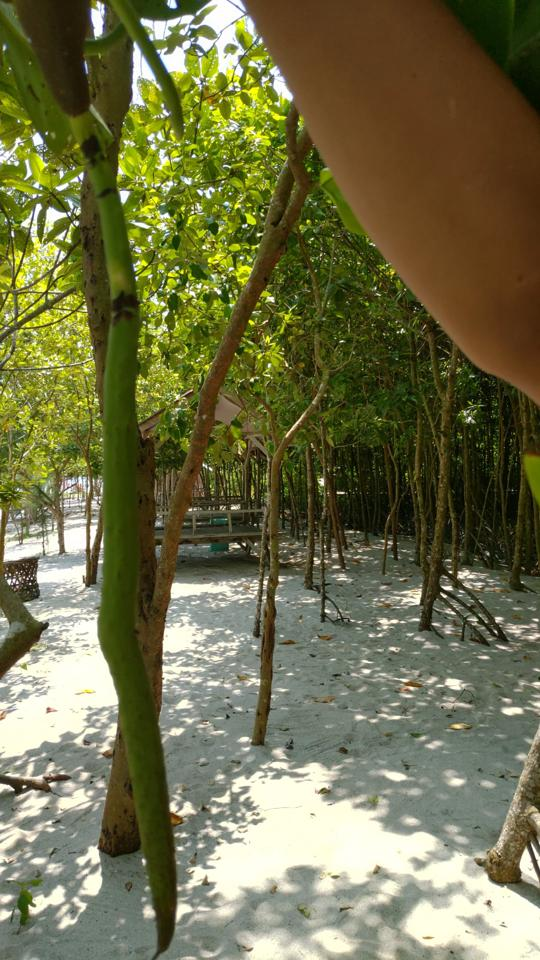setengah matang: (9, 1, 202, 952)
